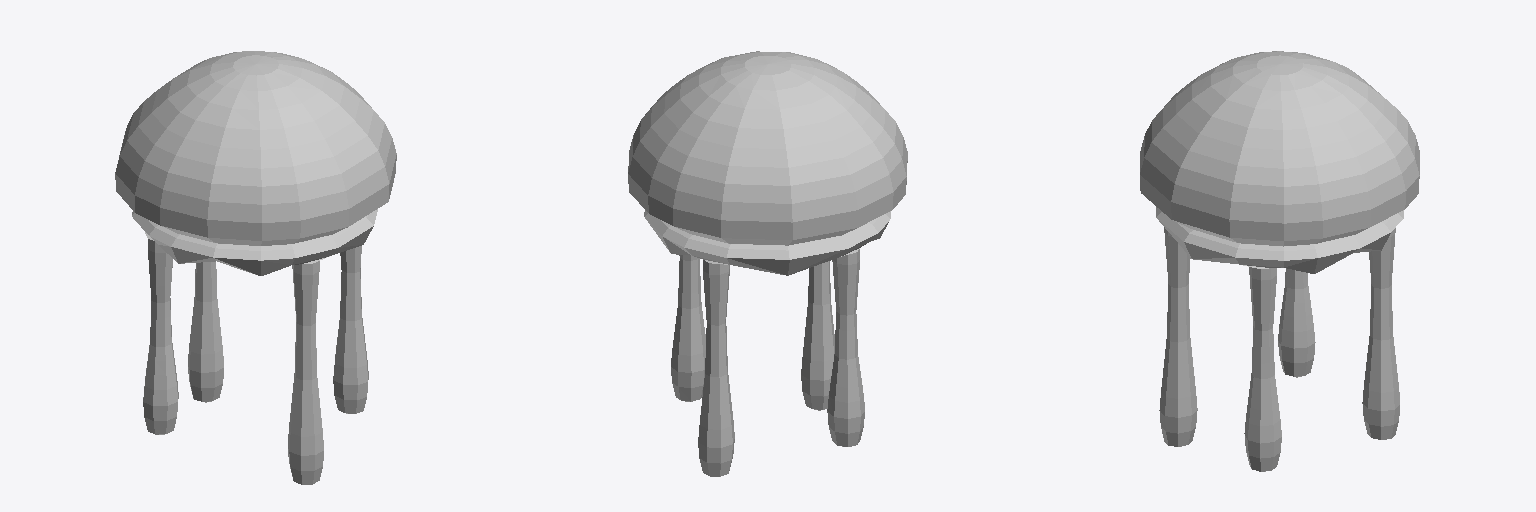
Rendered from medusa.obj.
3 views of the same model, side by side, from view 1: azimuth 30°, elevation 25°; view 2: azimuth 150°, elevation 25°; view 3: azimuth 270°, elevation 25° (orthographic).
Parts seen in each view (by area): view 1: Sphere_jelly_Jellyfish; view 2: Sphere_jelly_Jellyfish; view 3: Sphere_jelly_Jellyfish.
Boxes of the visible parts, x1,y1,x2,y2 form: Sphere_jelly_Jellyfish: [115, 51, 396, 484]; Sphere_jelly_Jellyfish: [628, 51, 907, 476]; Sphere_jelly_Jellyfish: [1140, 51, 1419, 471].
Size of the model in its own units: 0.5153 by 0.7647 by 0.5065.